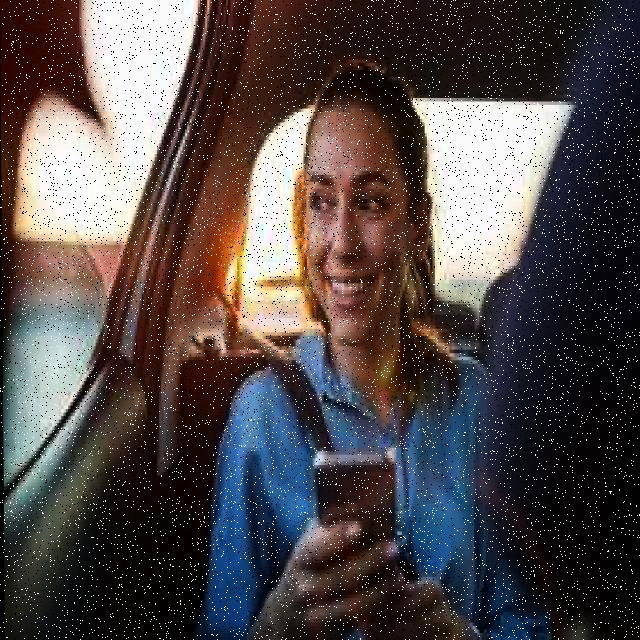seatbelt: (162, 284, 392, 620)
